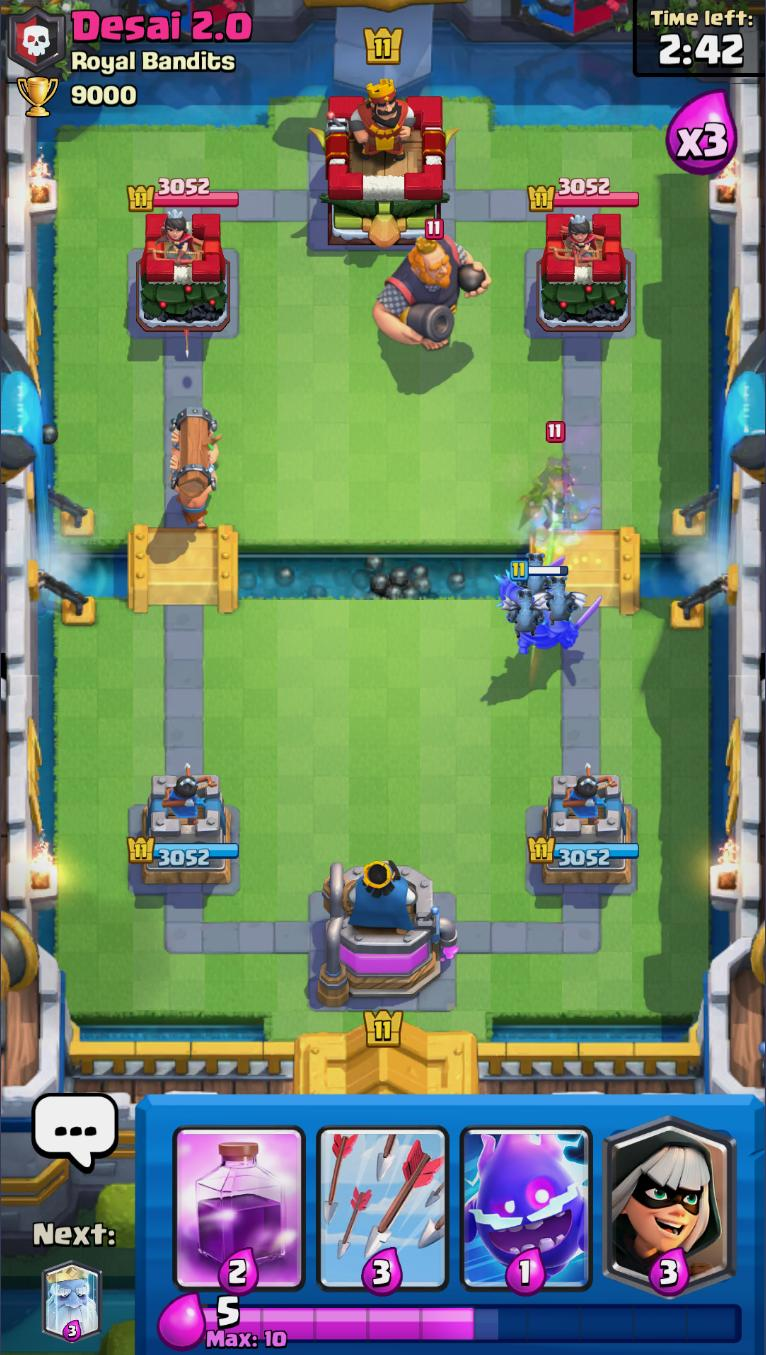ArcherQueen: (518, 421, 604, 532)
ArrowDeck: (311, 1098, 454, 1300)
BanditDeck: (601, 1097, 740, 1294)
ElectroSpiritDeck: (454, 1096, 600, 1297)
Elixir: (202, 1297, 745, 1350)
EnemyTower: (524, 212, 634, 333), (125, 211, 232, 333)
KingTower: (308, 82, 462, 250)
MyBattleRam: (168, 405, 222, 528)
MyKingTower: (317, 859, 459, 1009)
MyMinion: (534, 577, 587, 627), (500, 585, 548, 635), (517, 553, 556, 597)
MyPekka: (494, 558, 602, 655)
MyPrincessTower: (128, 771, 239, 896), (529, 769, 640, 886)
MyPrincessTowerHP: (127, 835, 240, 867), (528, 837, 640, 869)
PrincessTower: (150, 215, 205, 268), (550, 216, 607, 267)
RageDeck: (169, 1094, 313, 1295)
RoyaleGhostNext: (42, 1265, 104, 1342)
RoyaleGiant: (372, 218, 491, 352)
TowerPrincessHP: (529, 176, 641, 210), (129, 178, 241, 211)
